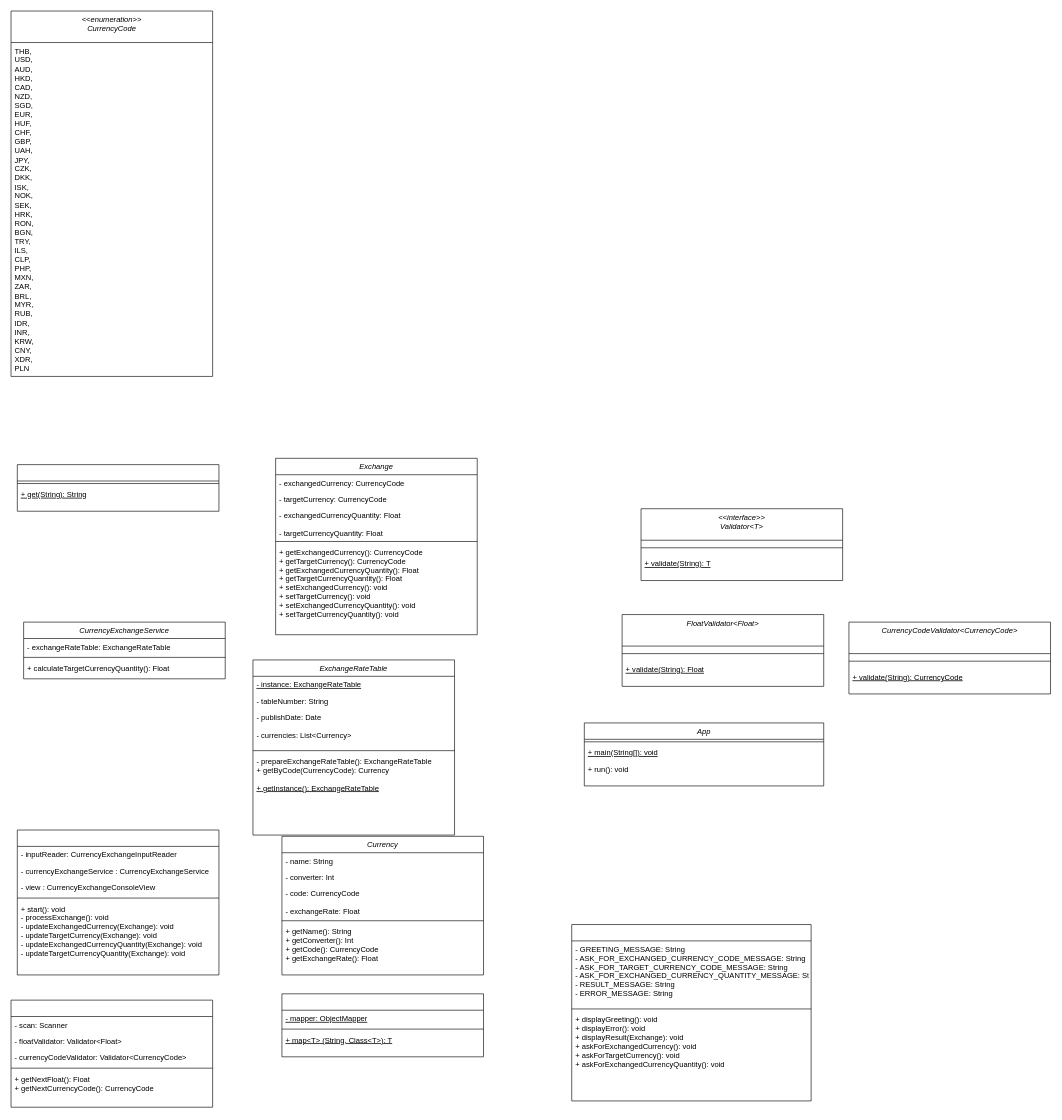
The diagram is 1062 pixels wide and 1120 high, and some of its shapes have lost their labels. The box of each missing label's shape, as (x1, y1, x2, y2) in pixels:
CurrencyExchangeConsoleView: (571, 924, 811, 1101)
CurrencyExchangeController: (17, 829, 219, 975)
CurrencyExchangeInputReader: (10, 999, 213, 1107)
RemoteProvider: (17, 464, 219, 511)
XMLMapper: (281, 993, 484, 1057)
